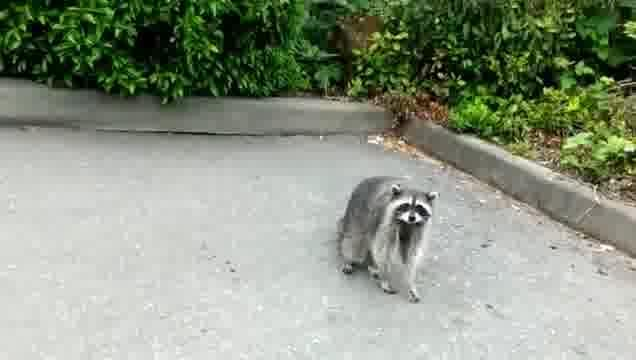raccoon: (337, 173, 441, 303)
